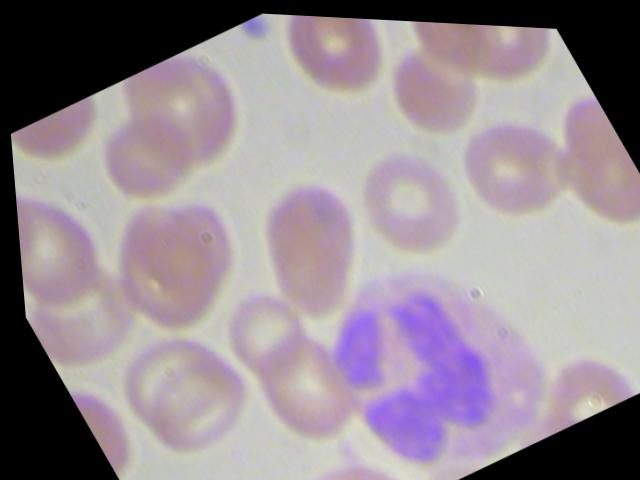Red Blood Cells: (219, 155, 403, 341), (71, 180, 241, 350), (331, 123, 491, 282), (229, 312, 369, 459), (114, 337, 265, 473), (442, 93, 586, 231), (72, 84, 211, 218), (365, 17, 499, 151), (529, 78, 639, 239), (260, 11, 409, 116), (199, 270, 321, 385)
White Blood Cells: (274, 211, 579, 479)
